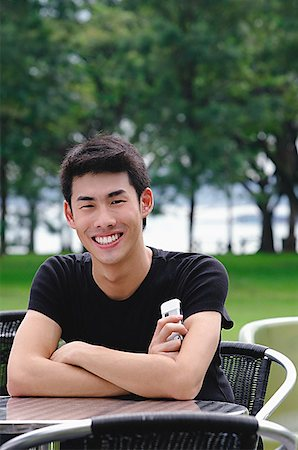bare: (72, 215, 142, 265)
